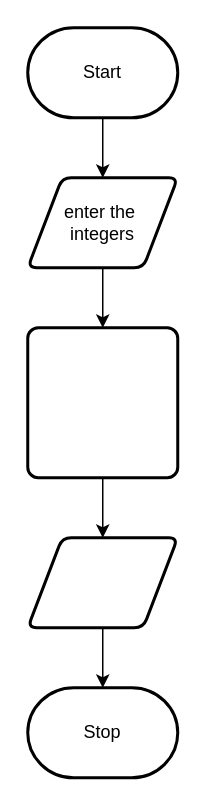
This 204x804 diagram has some shape labels left out. The centre of each missing label's shape, as x and y in pixels:
show valume: (x=102, y=582)
v = ( L x W x H ) / 3: (x=102, y=402)
